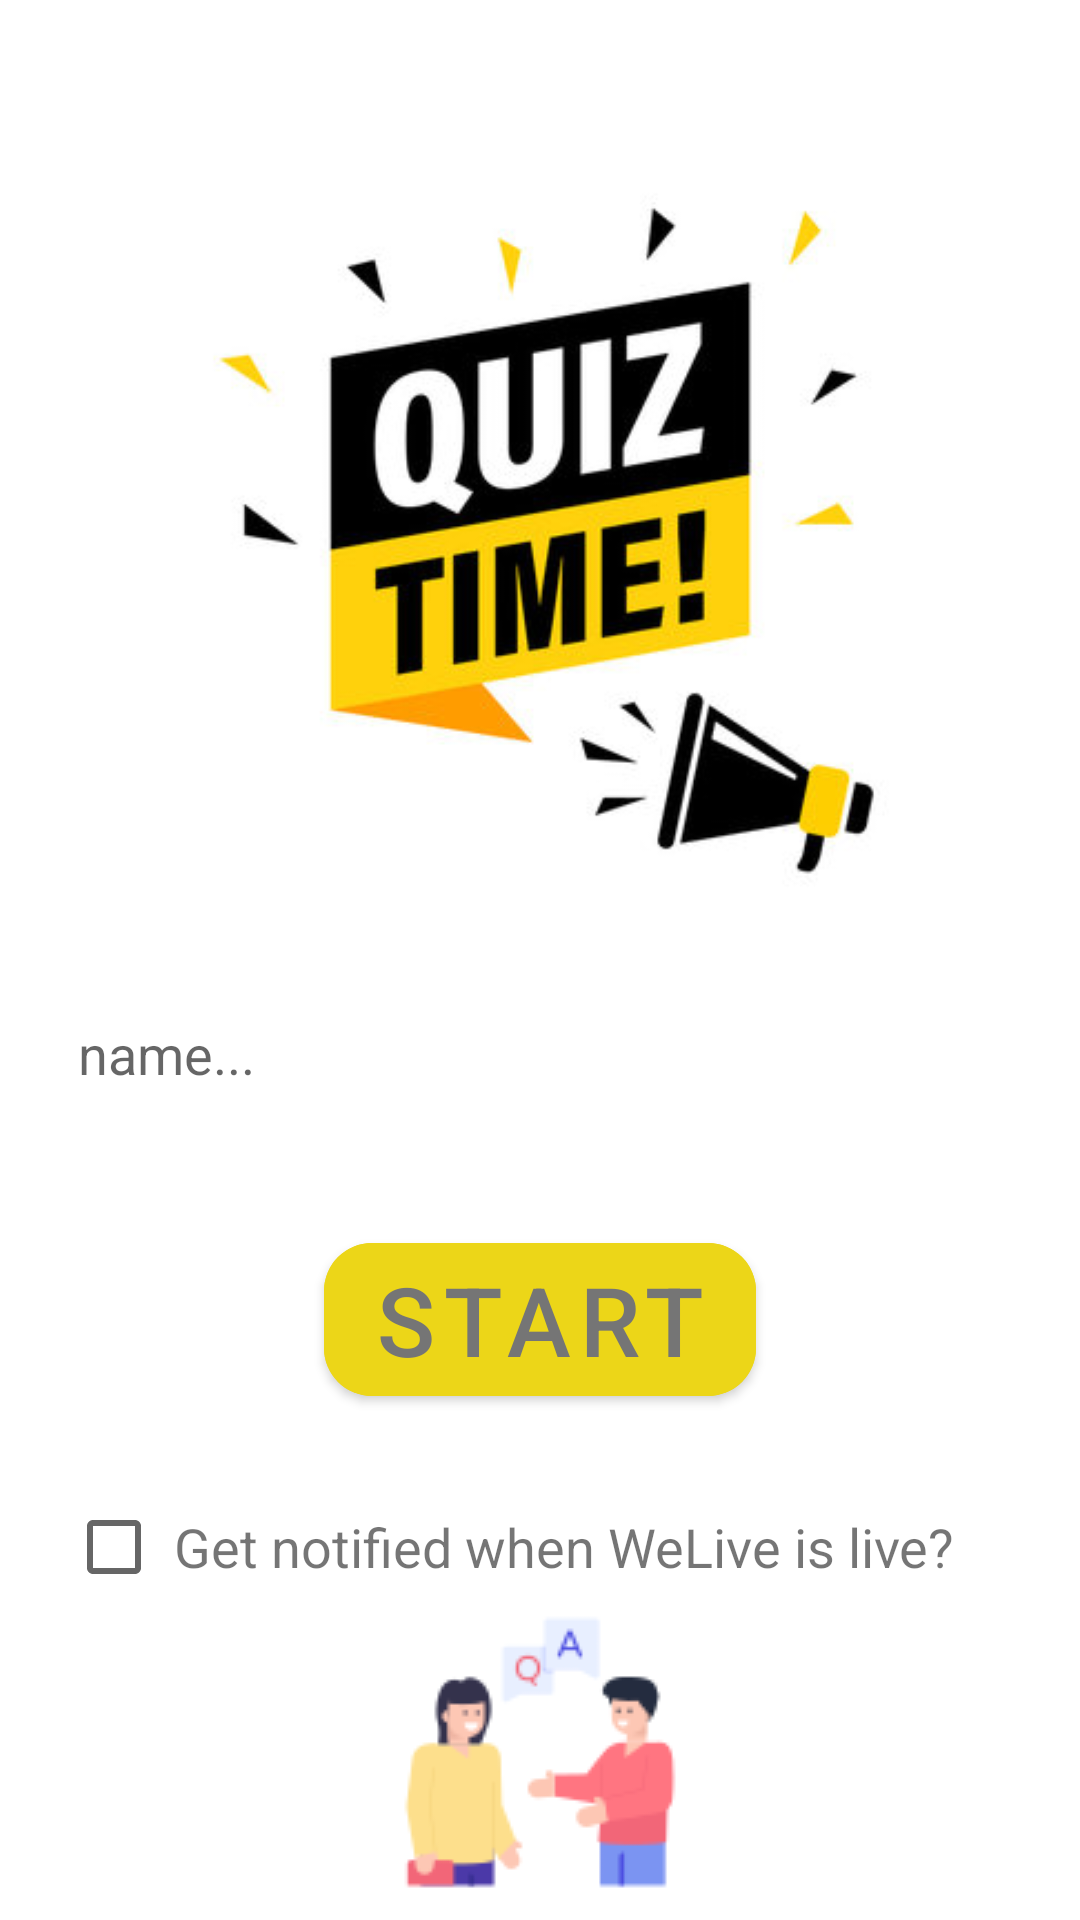

Icons on this 1080×1920 Android screen, each with its box as bbox=[x1, y1, x2, y2]:
quiz people: bbox=[405, 1628, 675, 1888]
